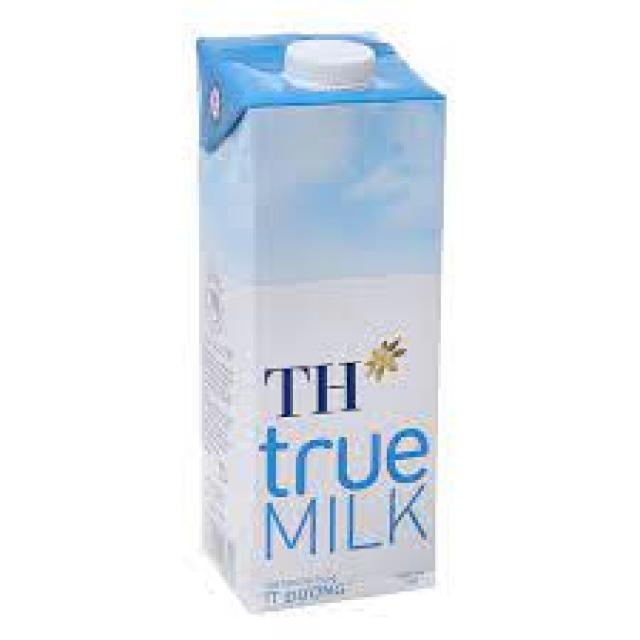non_white_jug: (80, 0, 201, 277)
